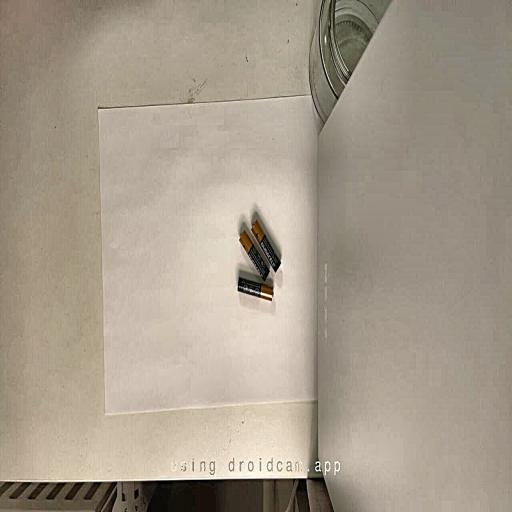DuracellAAA: (251, 220, 280, 272), (239, 230, 269, 280), (237, 277, 273, 301)
